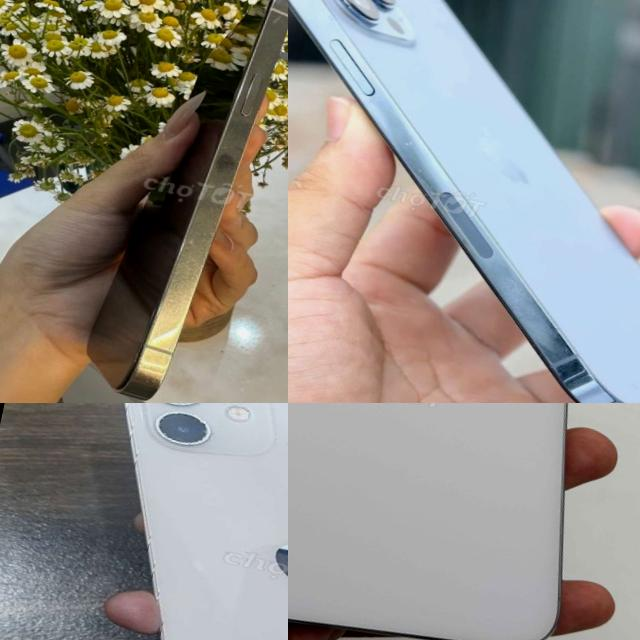gen_12_13: (288, 0, 640, 403), (44, 403, 288, 640)
gen_15: (78, 0, 288, 403)
gen_17: (288, 403, 640, 640)
